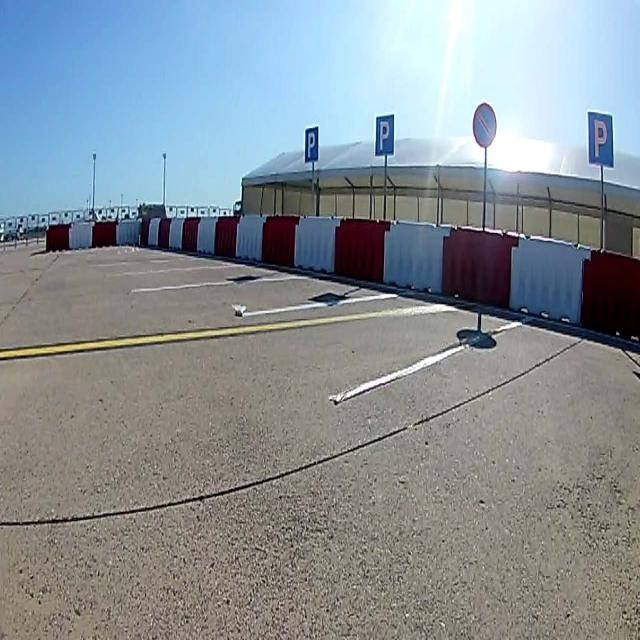park: (587, 110, 613, 166), (375, 114, 393, 153), (304, 127, 318, 162)
parkyasak: (472, 103, 497, 147)
